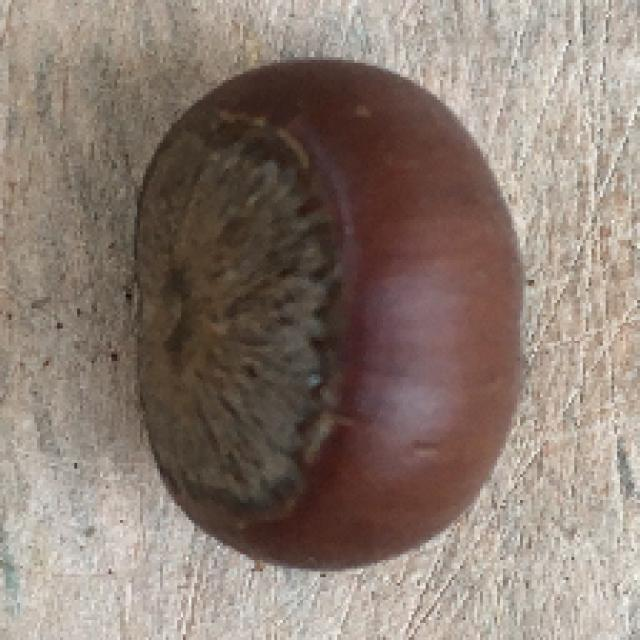damagedHazelnut: (119, 58, 536, 571)
